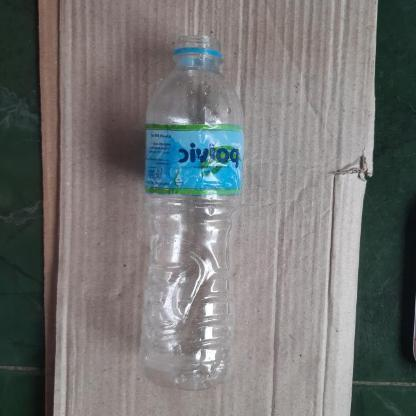Plastic Bottle: (139, 35, 246, 389)
